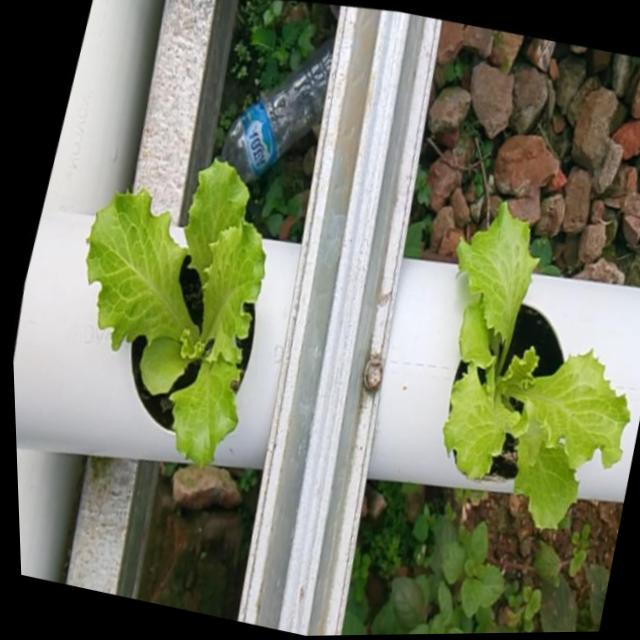Baby: (446, 205, 634, 533), (88, 162, 269, 473)
